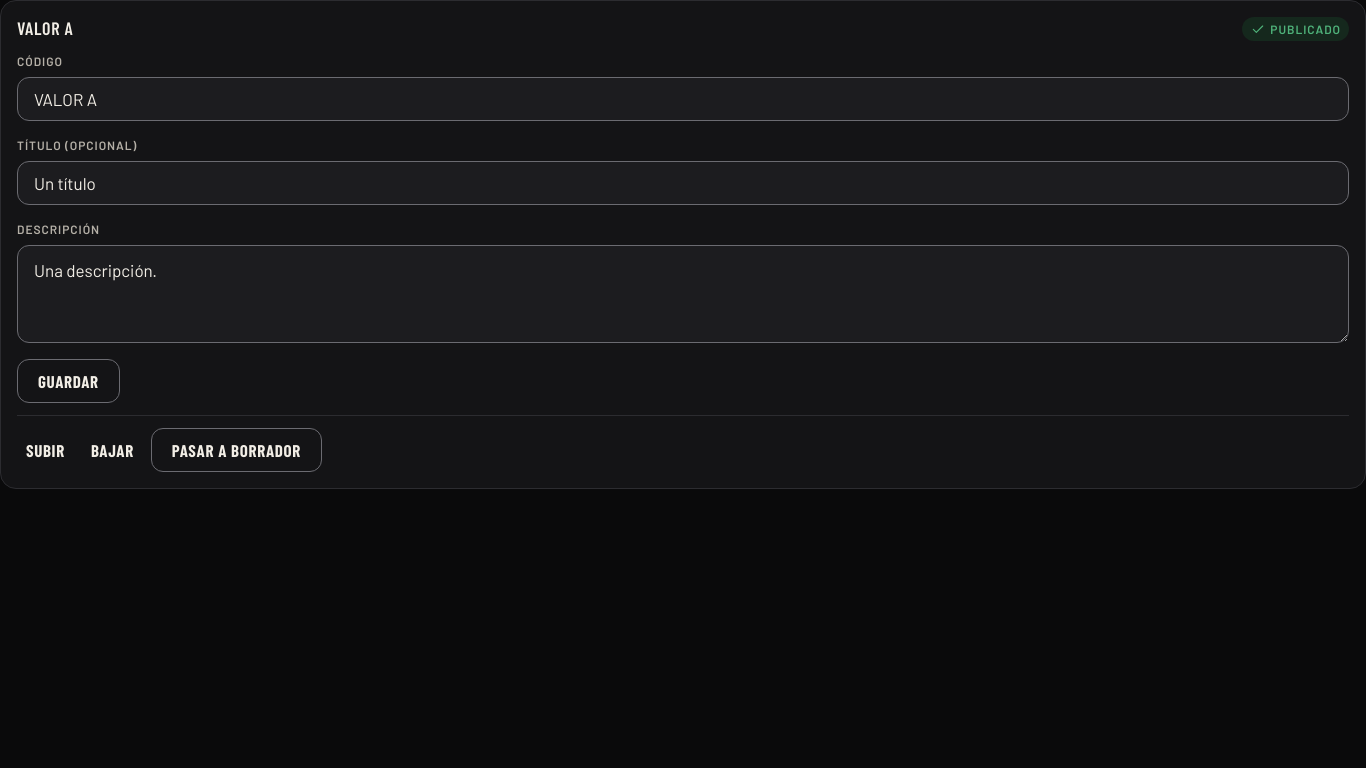
Test: ValueEditor · un valor que existe › el aviso de guardado es un estado: la región ya está antes y se vacía al tocar un campo
Click the button "Guardar" at (68, 381), box [17,359,120,403]
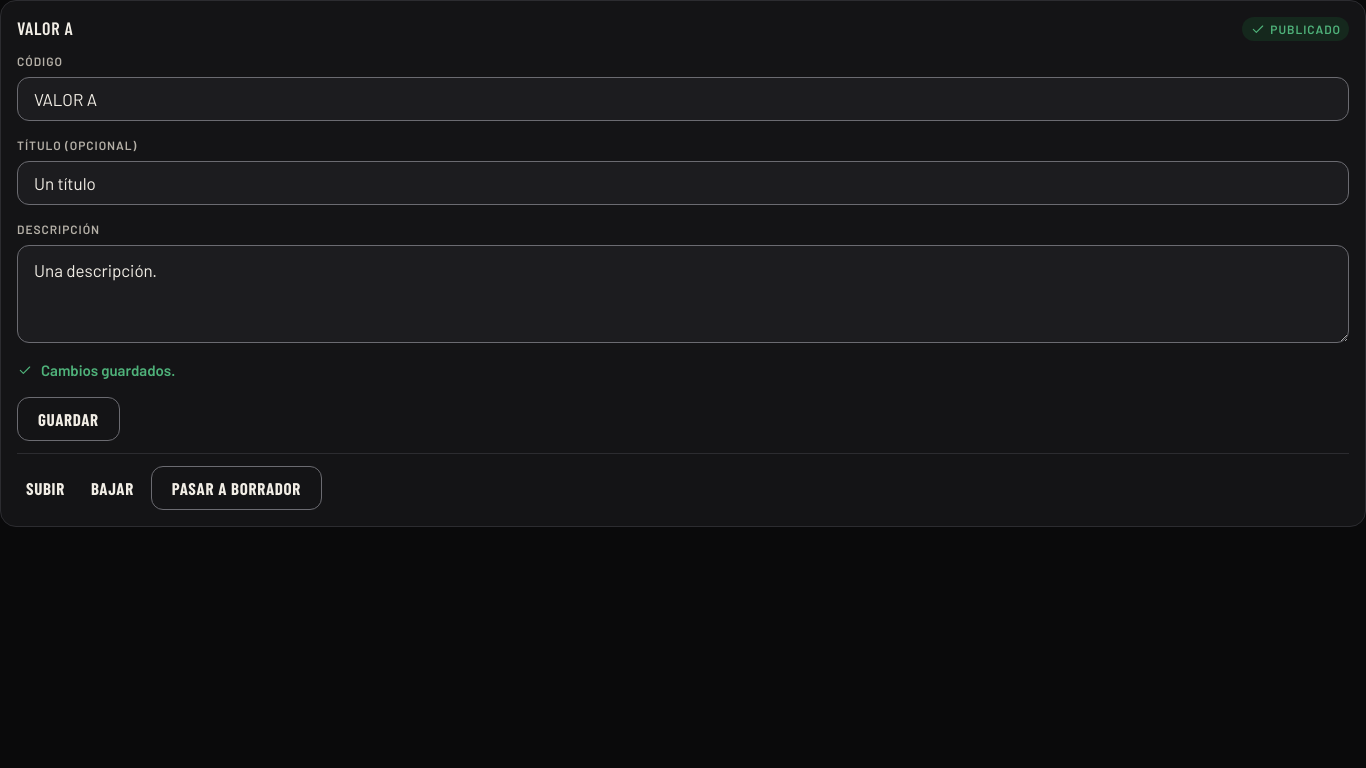
Now the text "Cambios guardados." is shown, box [17,361,175,379]
Replace the text in the text box labelled "Descripción" with "Algo más." at (683, 294), box [17,245,1349,343]
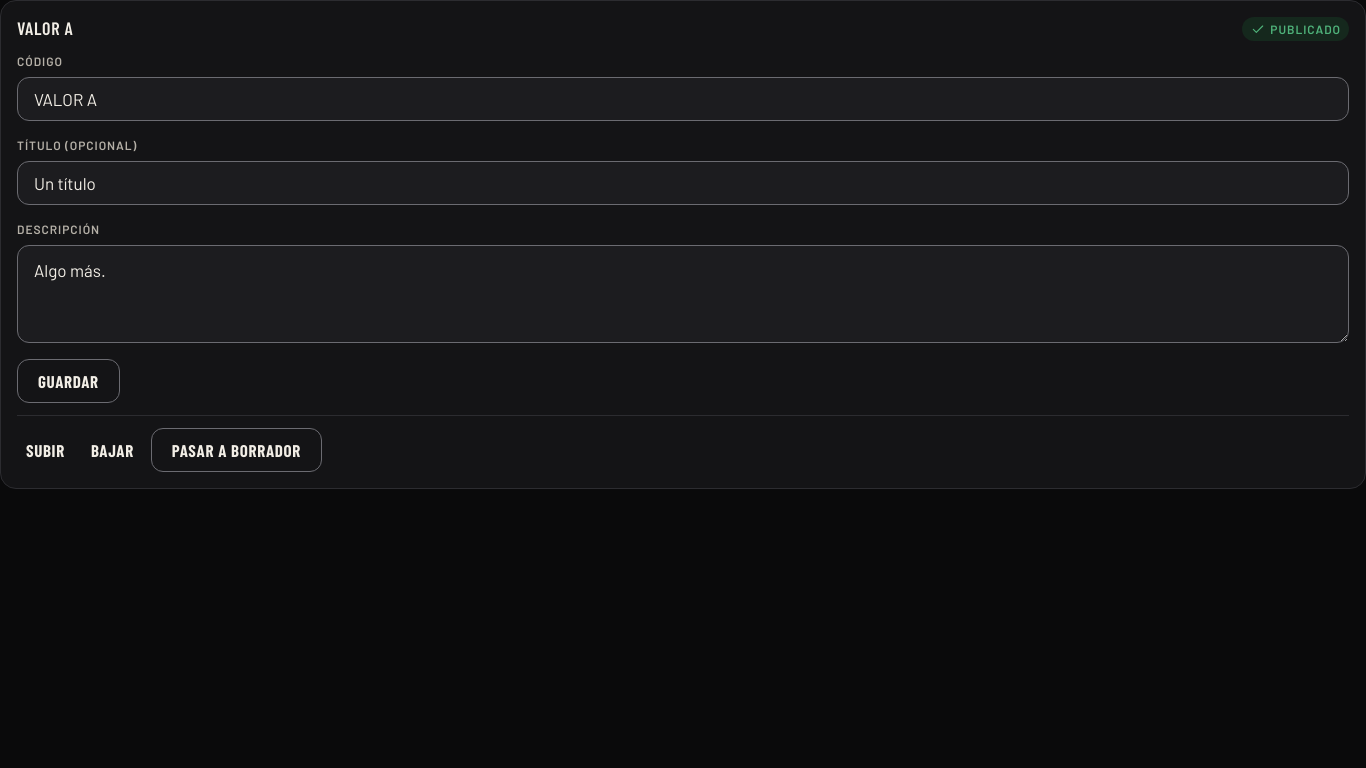
Now the text "Cambios guardados." is gone
